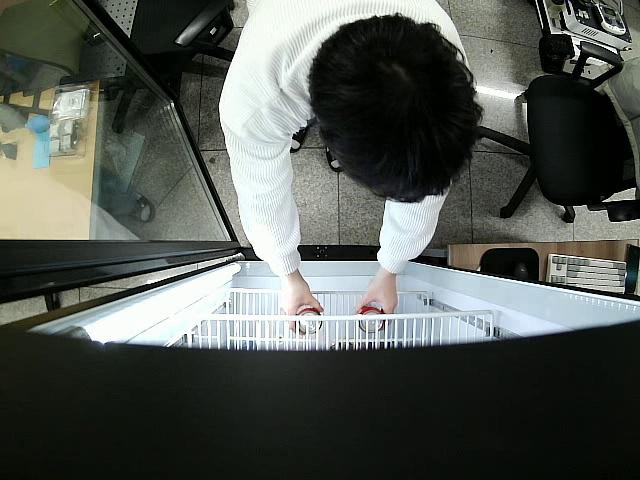00_hand: (281, 279, 324, 339), (357, 281, 396, 329)
11_cocaColaZero: (356, 306, 386, 335), (296, 305, 324, 334)
